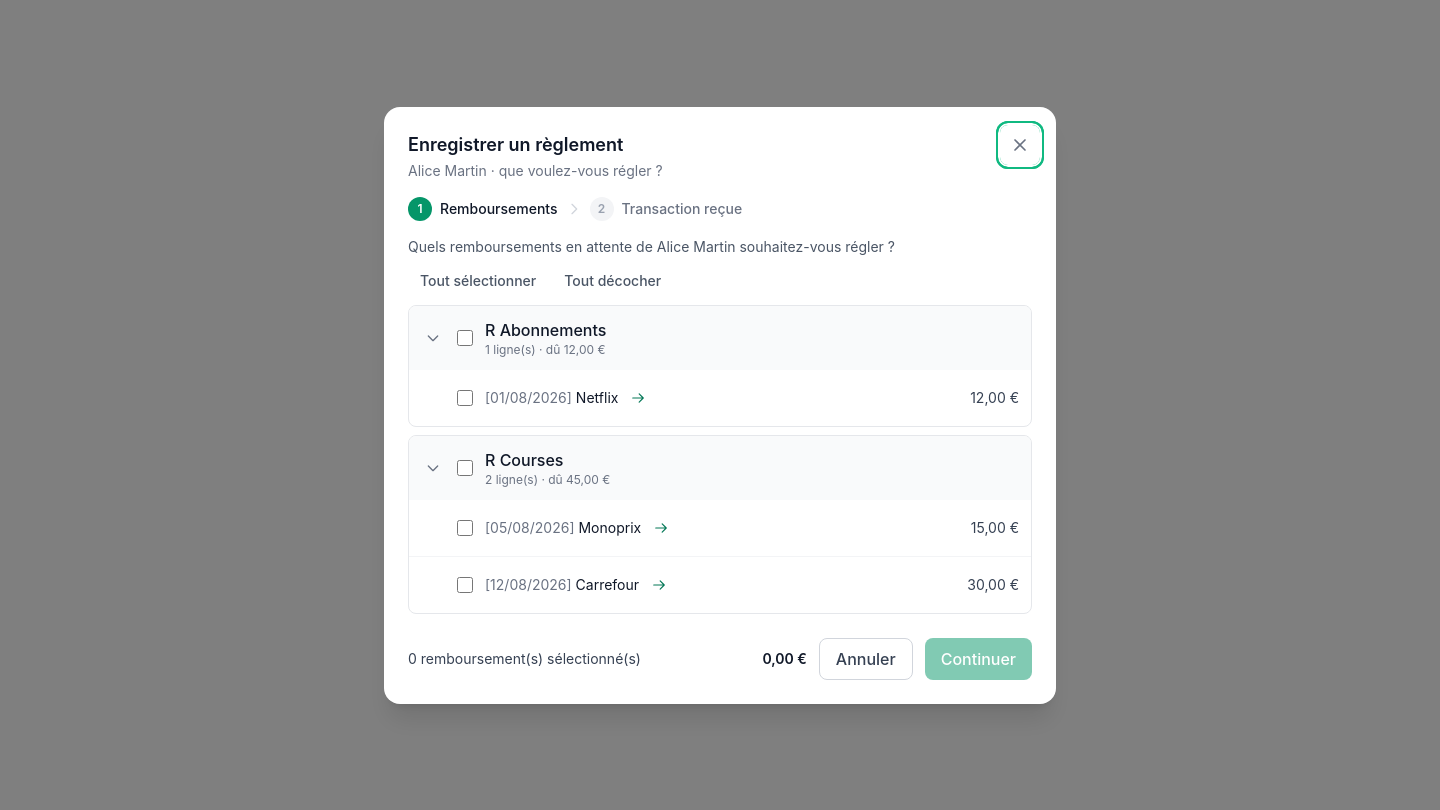
Test: SettlementModal › finding an old receipt › says when the page does not hold every match
The image size is (1440, 810).
Click the button with test id "settlement-select-all" at (478, 280), box [408,264,548,296]
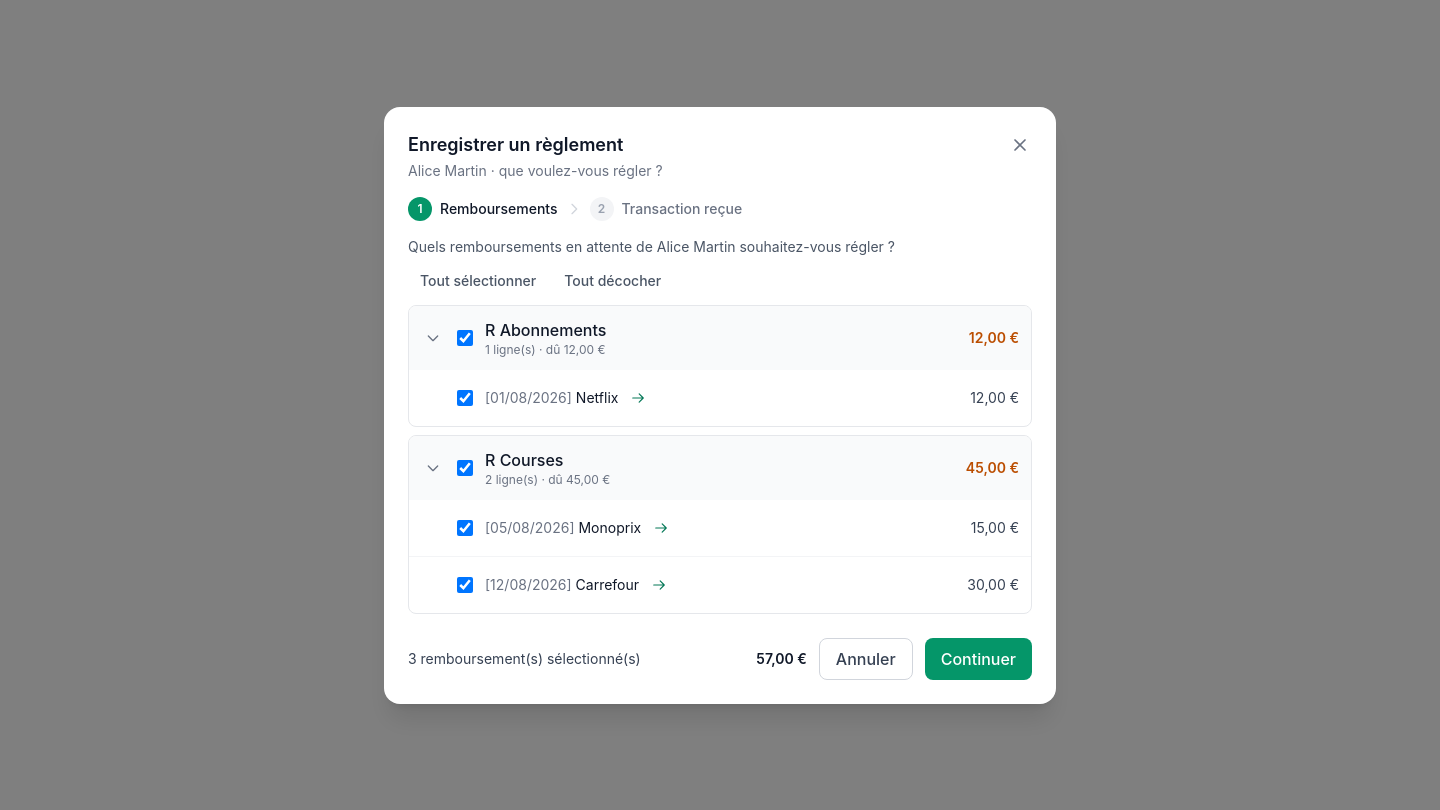
Click the button with test id "settlement-continue" at (978, 658), box [925,638,1032,680]
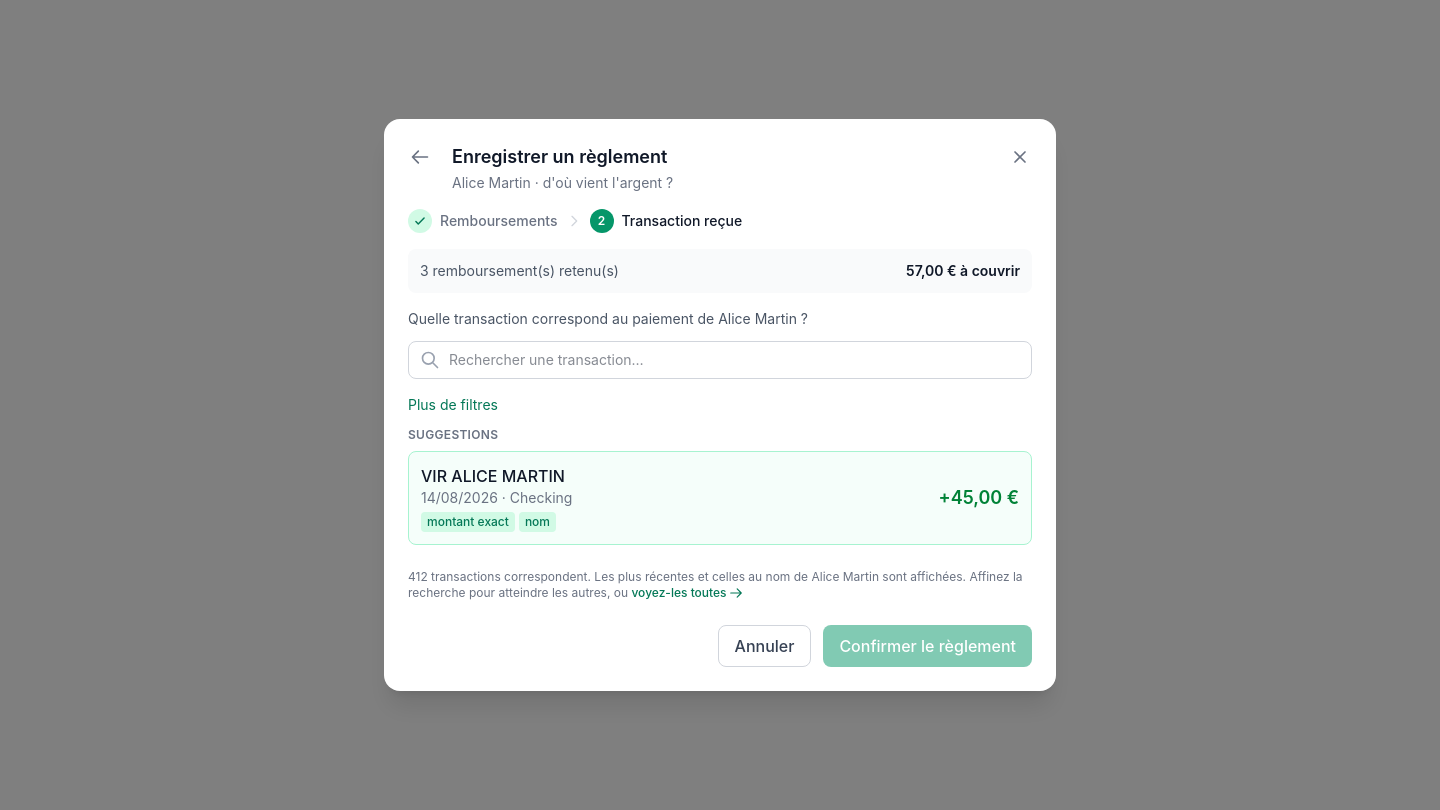
Now the element with test id "settlement-truncated" shows "412", box [408,569,594,584]
